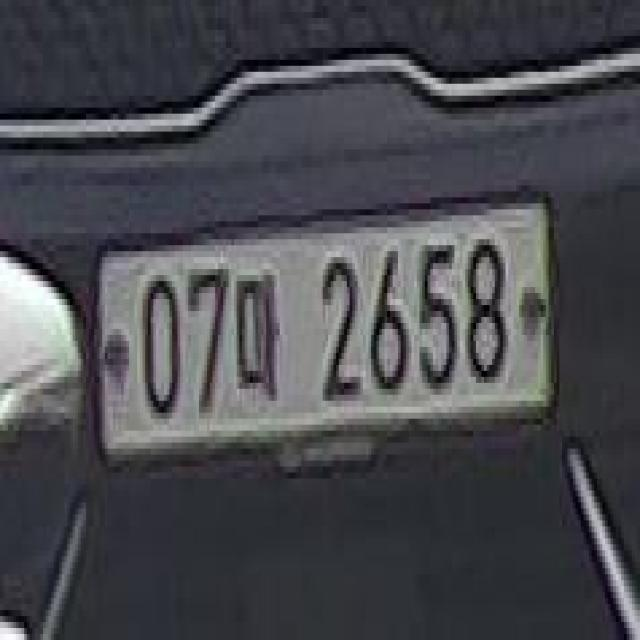illegal_plate: (87, 187, 558, 488)
